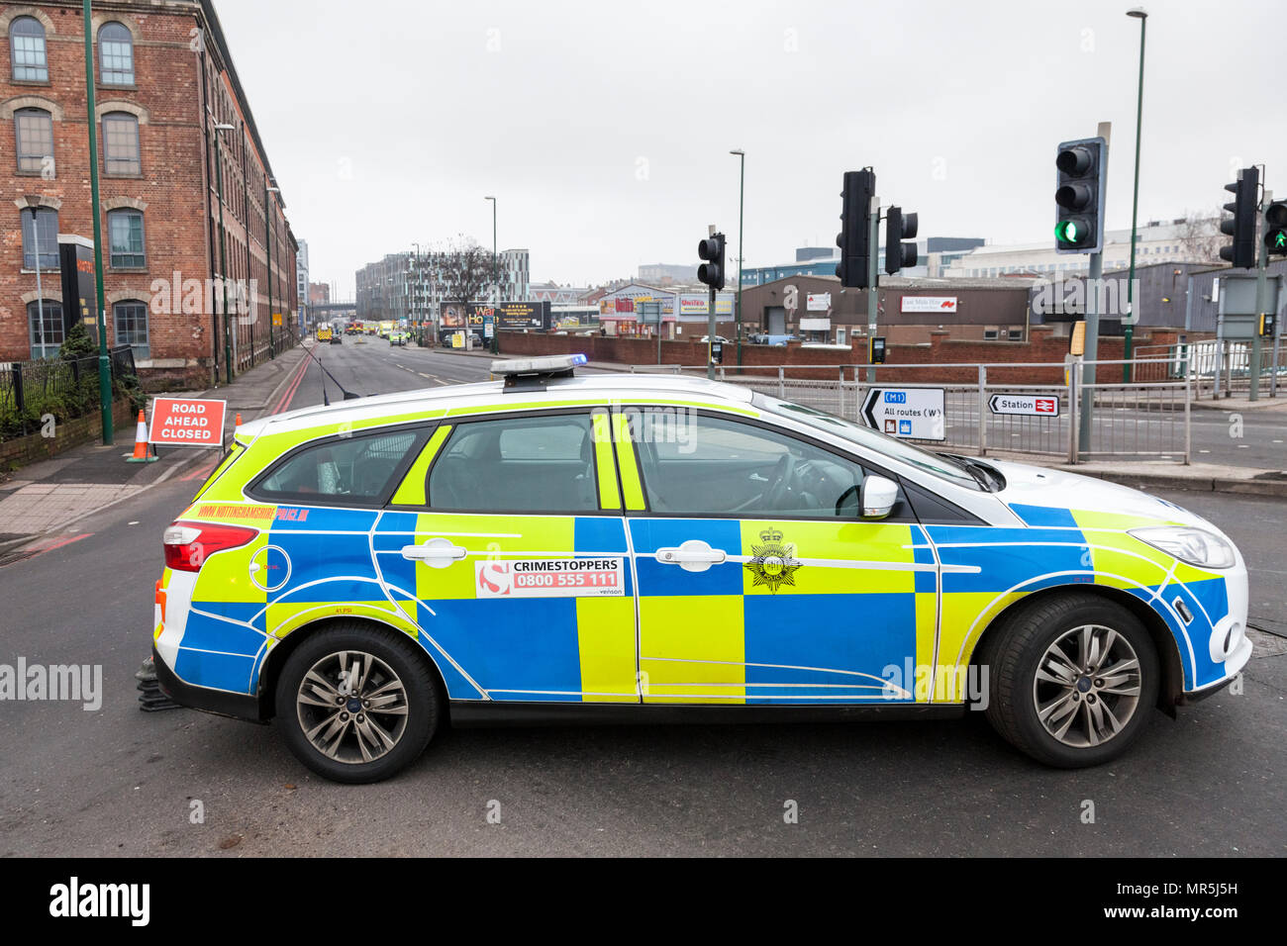Car: (120, 347, 1265, 790)
